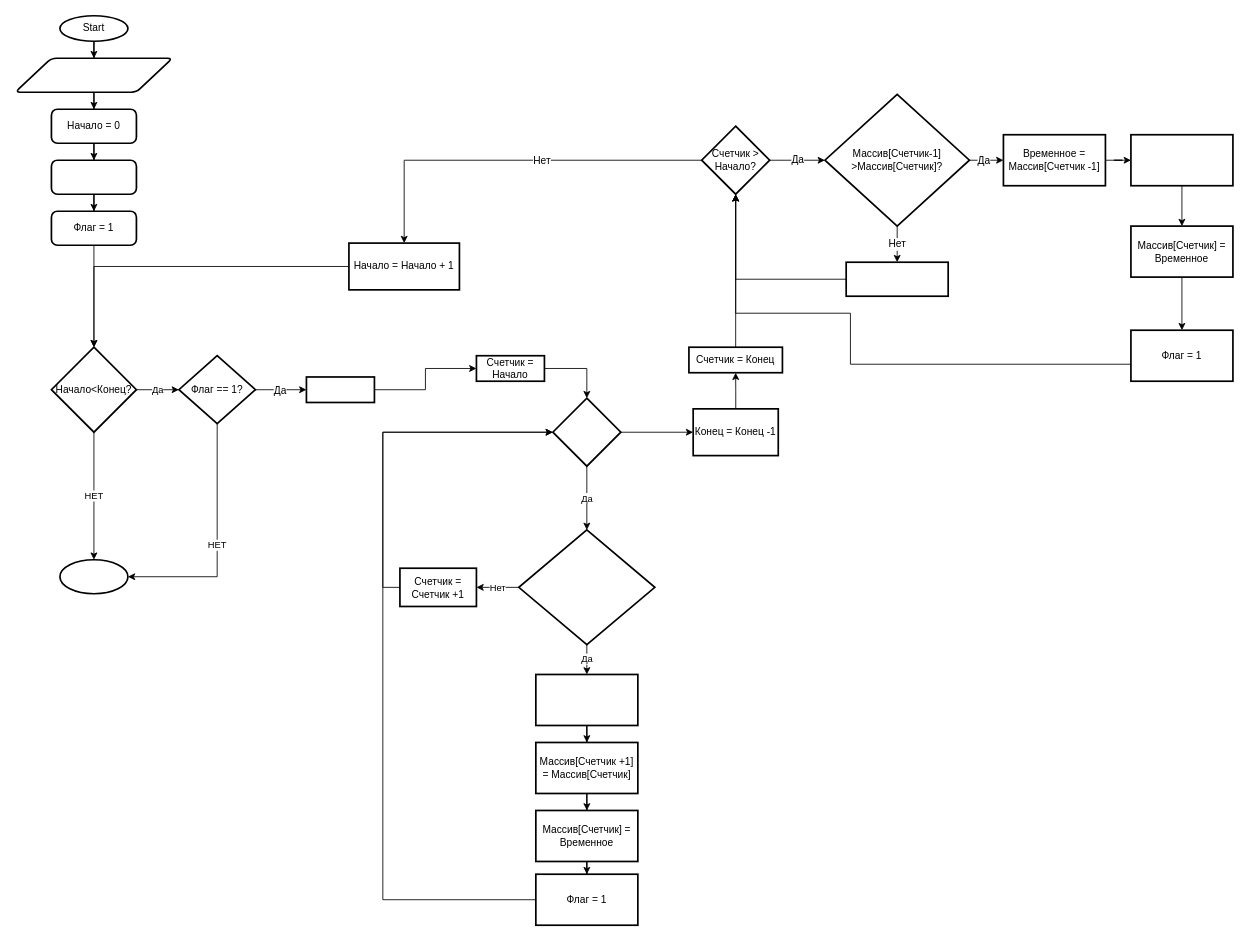
Some shapes in this 1249 by 940 pixel diagram are drawn without their labels. The shapes that lost their labels are listed below. From the top down, each one's centre as x and y in pixels, then its label:
point 93,75: Ввод массива Массив
point 93,177: Конец = размер массива - 1
point 1181,159: Массив[Счетчик -1] = Массив[Счетчик]
point 897,279: Счетчик = Счетчик -1
point 340,389: Флаг = 0
point 586,432: Счетчик < Конец?
point 93,576: End
point 586,587: Массив[Счетчик] > Массив[Счетчик +1] ?
point 586,699: Временное = Массив[Счетчик +1]
